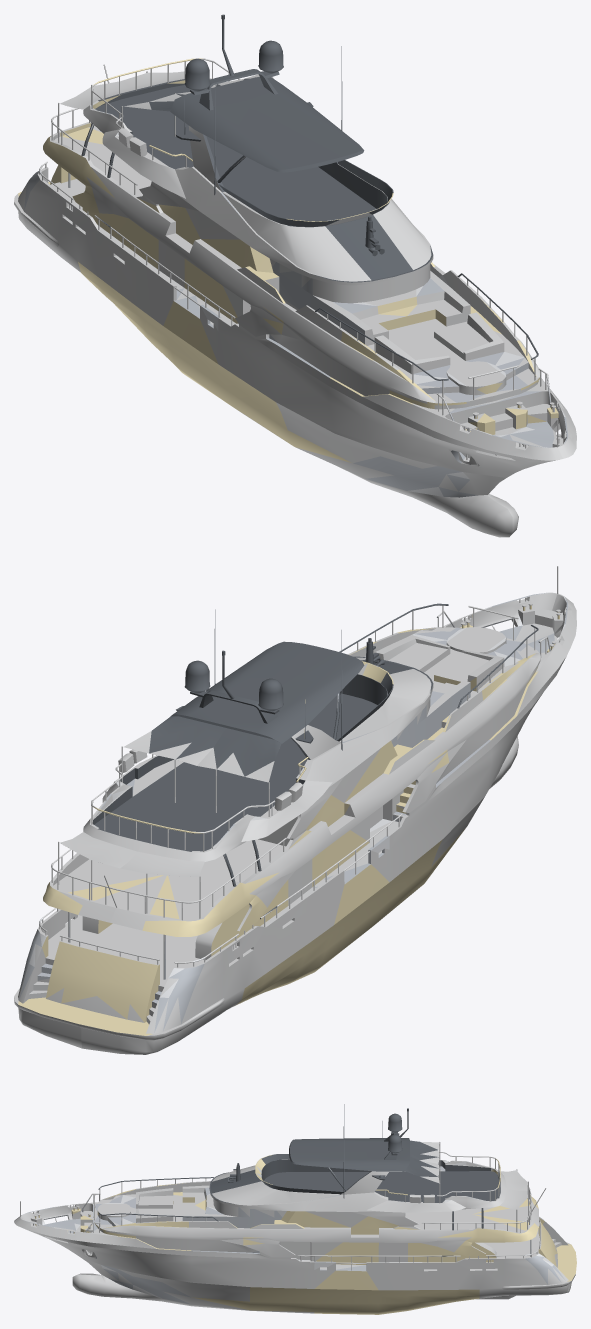
File: yacht.glb
3 views of the same model, one above another, from view 1: azimuth 30°, elevation 25°; view 2: azimuth 150°, elevation 25°; view 3: azimuth 270°, elevation 25° (orthographic). The views are drawn at different scales.
Visible parts, largest first — view 1: korpus1_01 - Default_0; view 2: korpus1_01 - Default_0; view 3: korpus1_01 - Default_0.
Boxes of the visible parts, x1,y1,x2,y2 form: korpus1_01 - Default_0: (14,14,576,537); korpus1_01 - Default_0: (14,566,576,1054); korpus1_01 - Default_0: (14,1104,576,1314).
Bounding box in the file's own units: 8.21 × 15.65 × 40.33.
